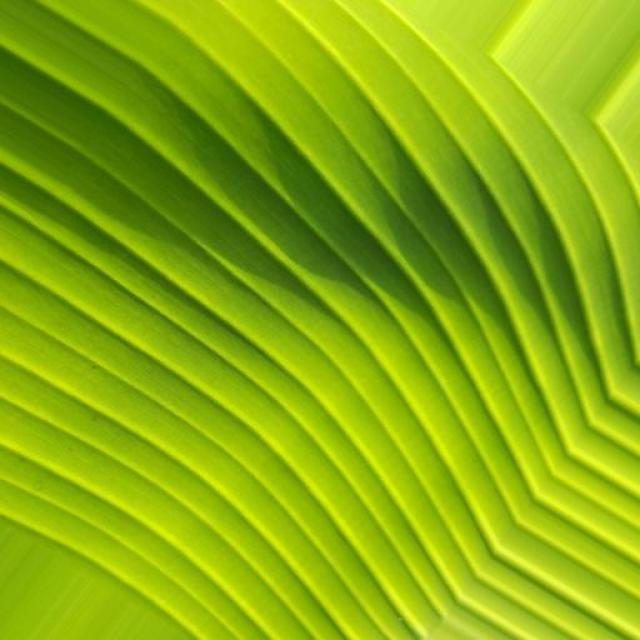Black_leaf_spot: (0, 0, 590, 582)
